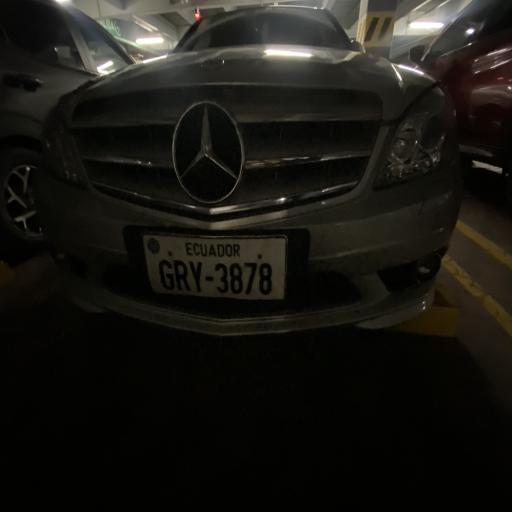license_plate: (212, 262, 230, 295), (156, 260, 175, 291), (174, 258, 191, 292), (188, 258, 204, 294), (228, 262, 244, 296), (258, 263, 274, 296), (243, 260, 258, 295)
